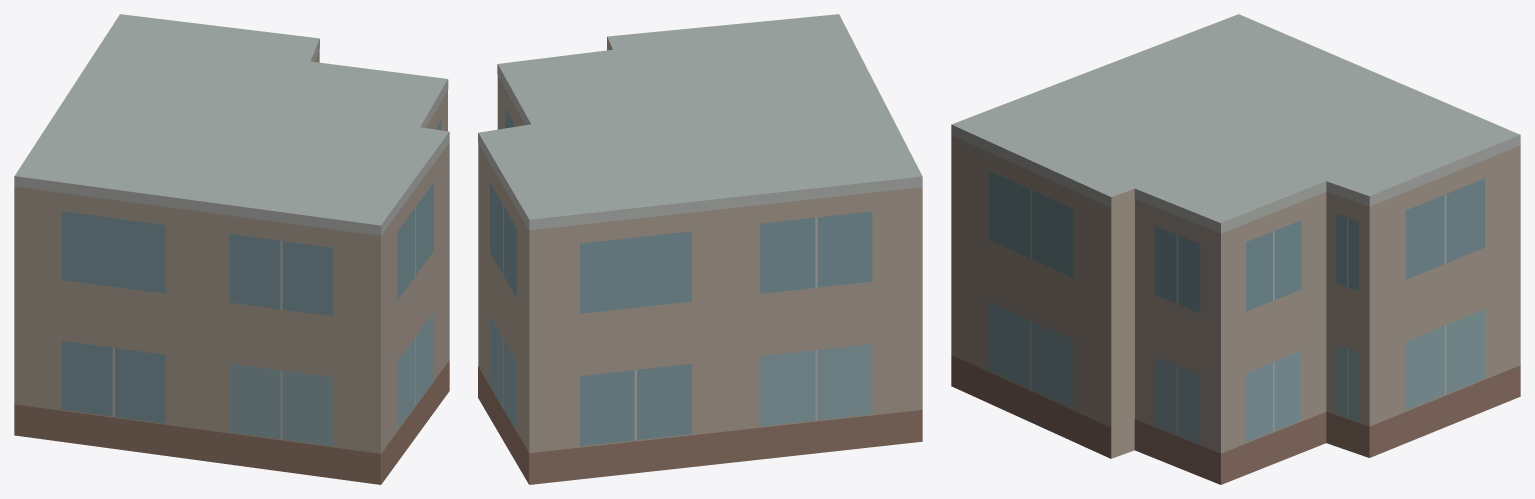
The model's file is survey-upis-32647721.glb.
The picture shows the model from 3 angles, left to right: view 1: azimuth 30°, elevation 25°; view 2: azimuth 150°, elevation 25°; view 3: azimuth 270°, elevation 25°; orthographic projection. The views are drawn at different scales.
Visible parts, largest first — view 1: survey-upis-32647721.tmp; view 2: survey-upis-32647721.tmp; view 3: survey-upis-32647721.tmp.
Part boxes in pixels (x1,y1,x2,y2): survey-upis-32647721.tmp: [14, 14, 449, 484]; survey-upis-32647721.tmp: [478, 14, 922, 484]; survey-upis-32647721.tmp: [951, 14, 1520, 484].
Bounding box in the file's own units: 10.47 × 6.1 × 12.03.
